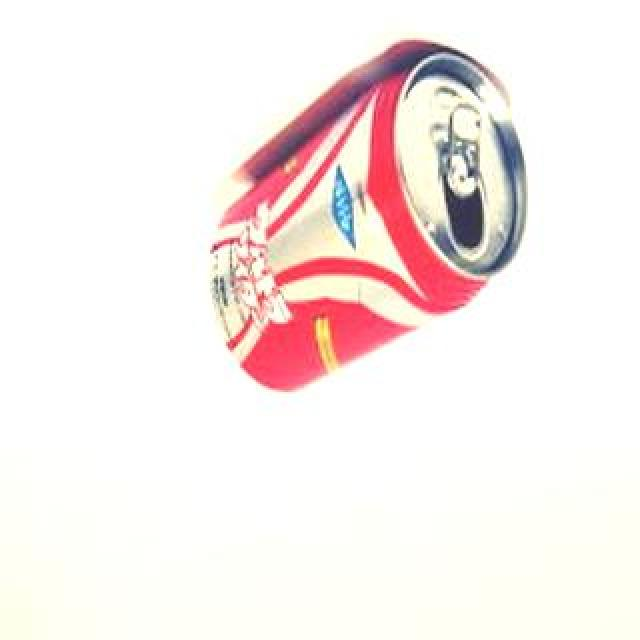Can: (206, 43, 538, 395)
